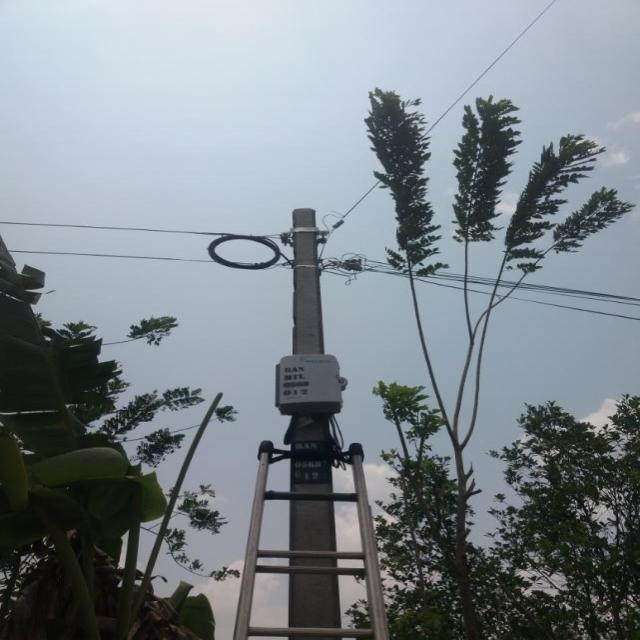light_pole: (252, 204, 354, 640)
